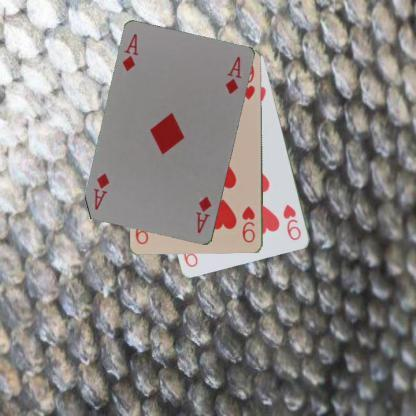9h: (281, 202, 303, 242), (240, 203, 256, 244)
Ad: (120, 31, 140, 73), (193, 194, 213, 235)
